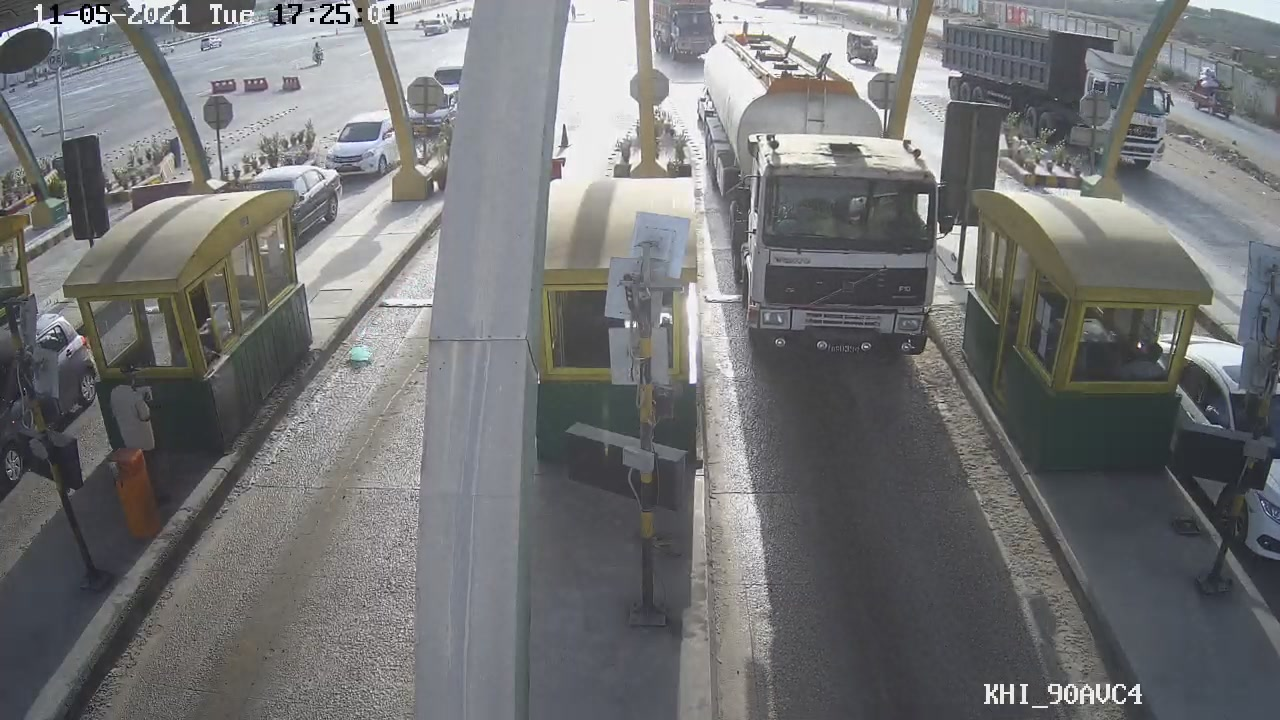F6: (701, 22, 941, 352)
